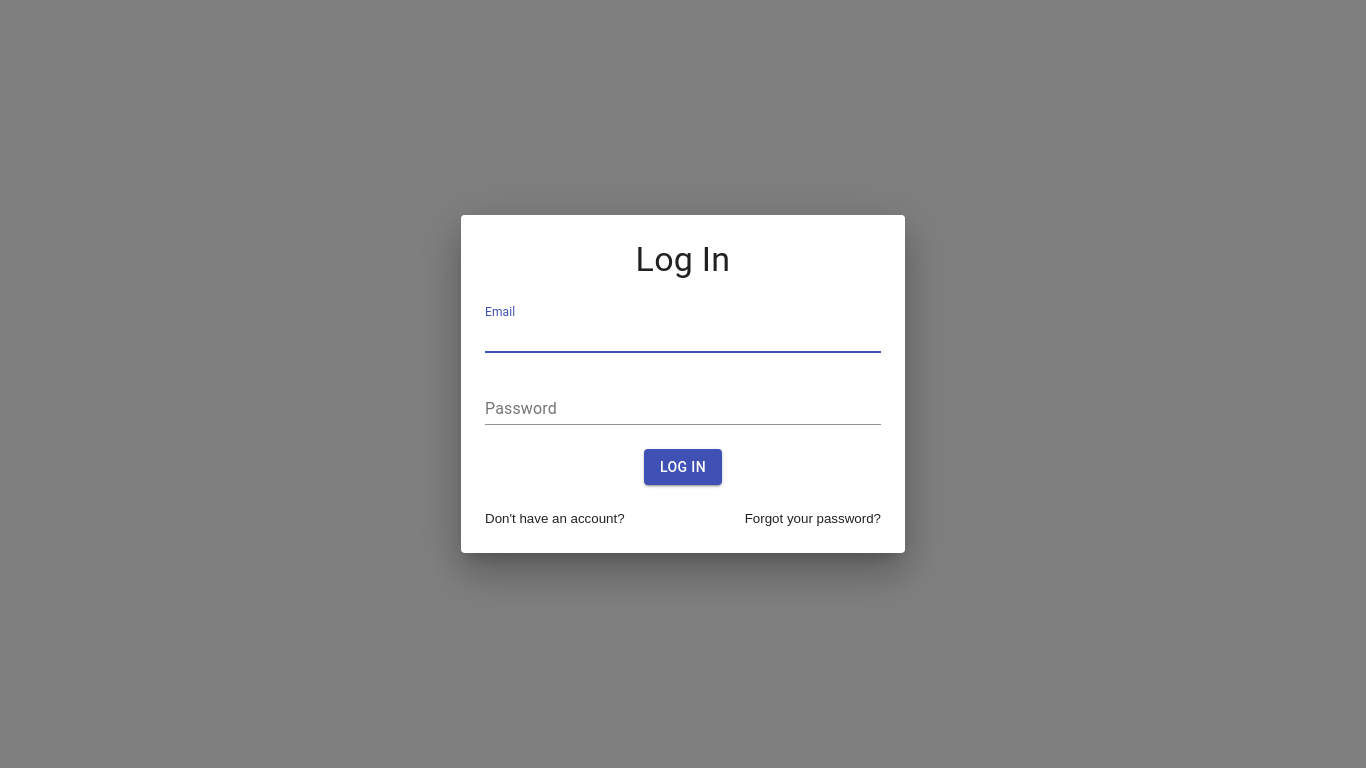
Test: <SignInDialog /> › Validation › should give an error on submit if password is empty
Type "123@gmail.com" into the field labelled "Email" at (683, 337), box [485, 321, 881, 353]
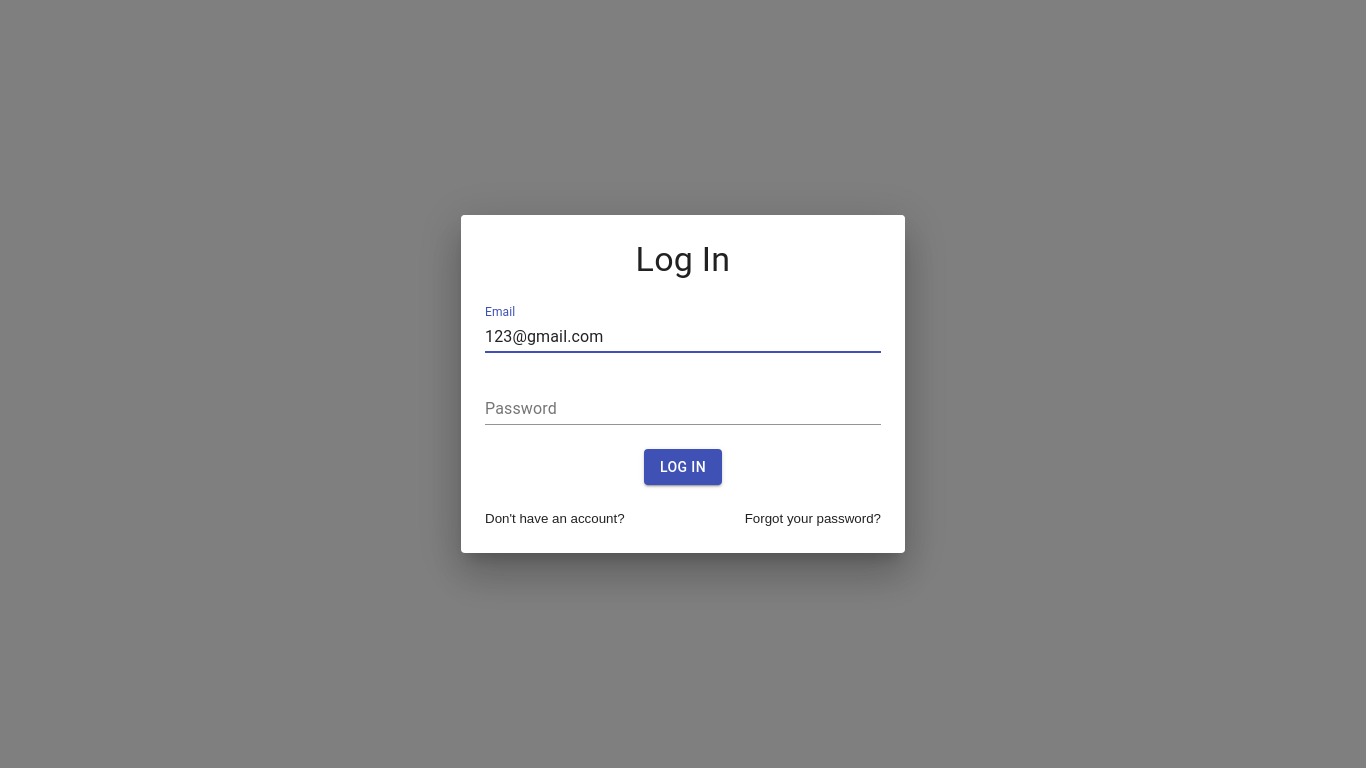
Submit the form, box [485, 293, 881, 497]
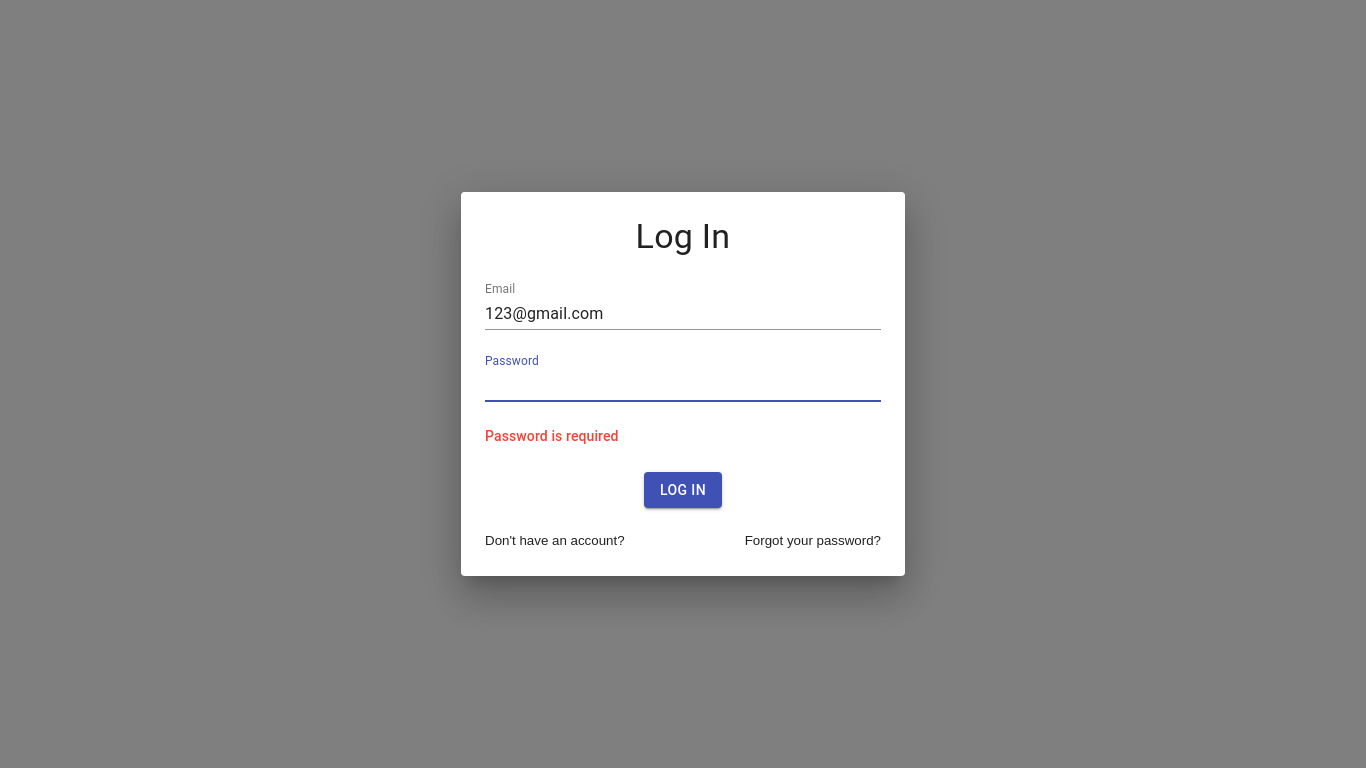
Now the text "Password is required" is shown, box [485, 428, 619, 444]
